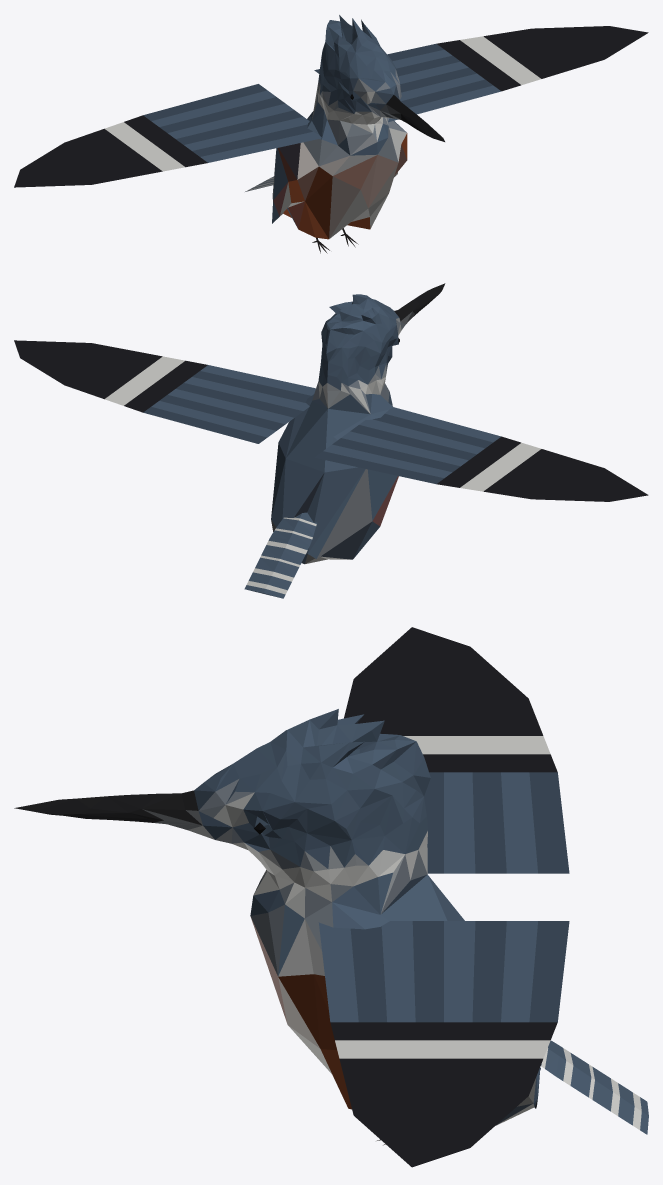
The model's file is kingfisher.glb.
The picture shows the model from 3 angles, top to bottom: view 1: azimuth 30°, elevation 25°; view 2: azimuth 150°, elevation 25°; view 3: azimuth 270°, elevation 25°; orthographic projection. The views are drawn at different scales.
Visible parts, largest first — view 1: lod0; view 2: lod0; view 3: lod0.
Part boxes in pixels (left/top/right/bottom): lod0: left=14, top=15, right=648, bottom=253; lod0: left=14, top=283, right=648, bottom=598; lod0: left=14, top=627, right=648, bottom=1167.
Size of what is drawn, in the model's own units: 0.55 by 0.1996 by 0.2731.
